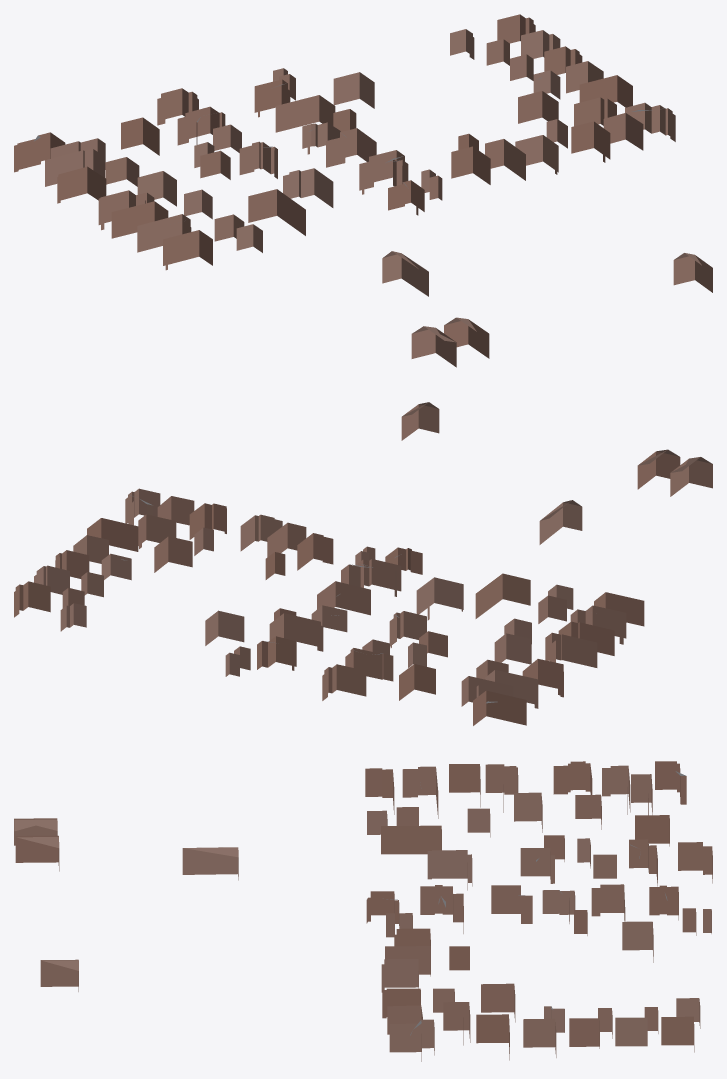
Rendered from c_1640_17830_buildings_residential.glb.
3 renders of one model, top to bottom at view 1: azimuth 30°, elevation 25°; view 2: azimuth 150°, elevation 25°; view 3: azimuth 270°, elevation 25°, orthographic. The views are drawn at different scales.
Parts seen in each view (by area): view 1: geometry_0; view 2: geometry_0; view 3: geometry_0.
Boxes of the visible parts, bbox=[...] form: geometry_0: bbox=[14, 14, 712, 367]; geometry_0: bbox=[14, 402, 712, 725]; geometry_0: bbox=[14, 761, 712, 1061].
Bounding box in the file's own units: 197 × 10.68 × 211.
